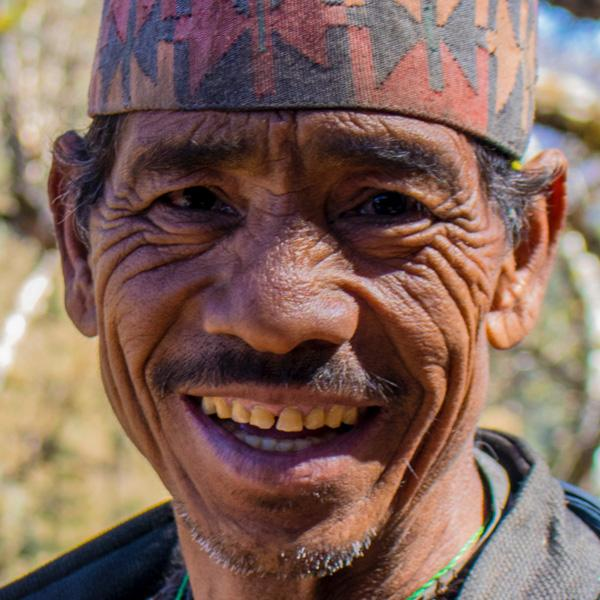Eyes: (334, 174, 442, 244), (141, 172, 243, 233)
